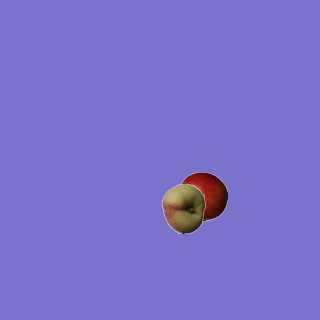Apple Braeburn: (177, 171, 227, 221)
Peach Flat: (158, 183, 208, 233)
